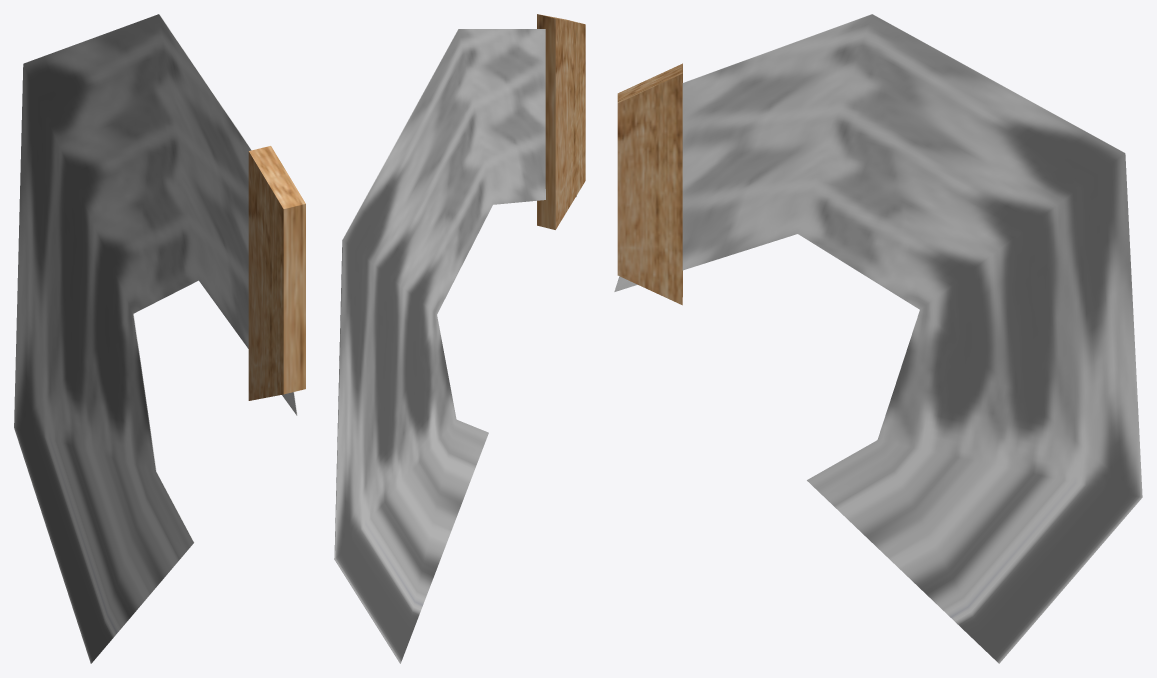
The model's file is back_bahkab_3.dae.
3 views of the same model, side by side, from view 1: azimuth 30°, elevation 25°; view 2: azimuth 150°, elevation 25°; view 3: azimuth 270°, elevation 25° (orthographic). The views are drawn at different scales.
Visible parts, largest first — view 1: back_nobre_3; view 2: back_nobre_3; view 3: back_nobre_3.
Boxes of the visible parts, left/top/right/bottom form: back_nobre_3: left=14, top=14, right=305, bottom=663; back_nobre_3: left=334, top=14, right=585, bottom=663; back_nobre_3: left=614, top=14, right=1142, bottom=663.
Bounding box in the file's own units: 0.0692 × 1.52 × 2.06.
